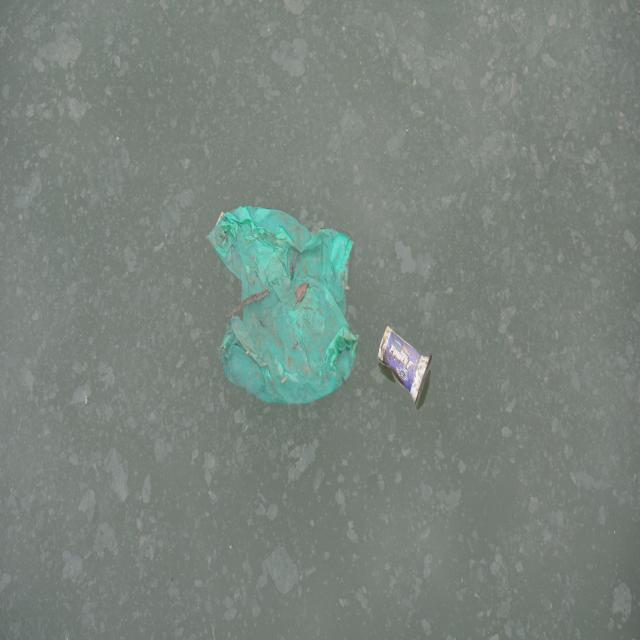Bungkus Minuman: (377, 326, 435, 409)
Kantong Plastik: (206, 201, 360, 405)
